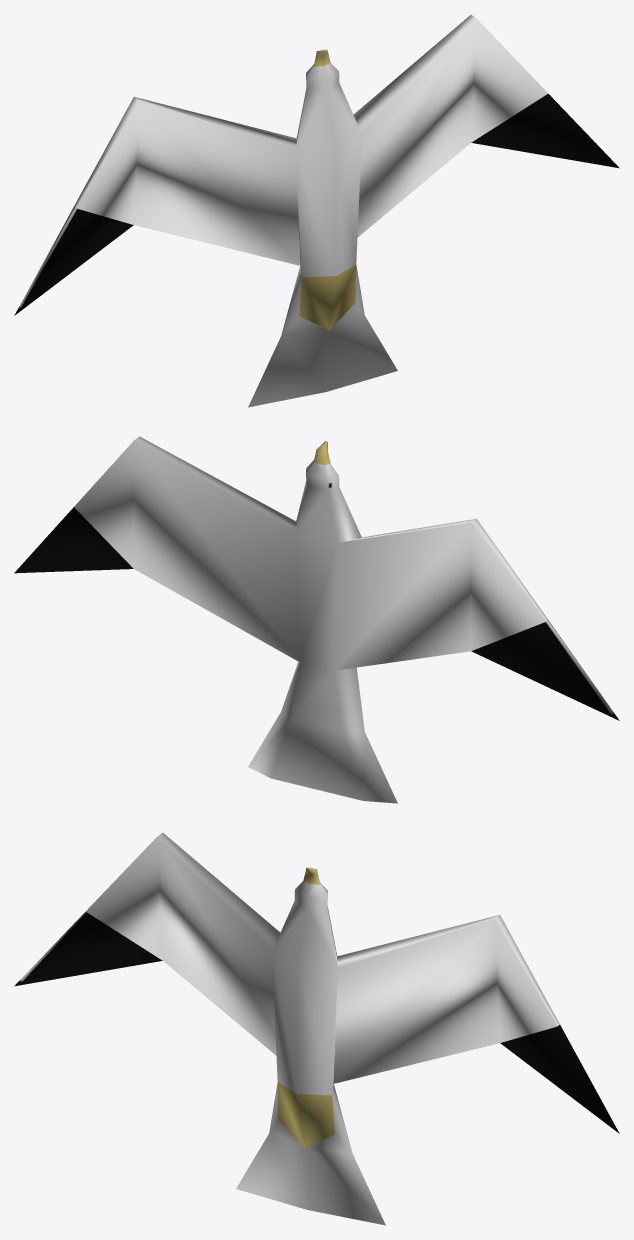
Rendered from seagul_lod0.fbx.
3 views of the same model, one above another, from view 1: azimuth 30°, elevation 25°; view 2: azimuth 150°, elevation 25°; view 3: azimuth 330°, elevation 25° (orthographic).
Parts seen in each view (by area): view 1: bird_no_armature; view 2: bird_no_armature; view 3: bird_no_armature.
Boxes of the visible parts, bbox=[...] form: bird_no_armature: bbox=[14, 14, 619, 407]; bird_no_armature: bbox=[14, 436, 619, 803]; bird_no_armature: bbox=[14, 832, 619, 1225].
Size of the model in its own units: 5503 by 2966 by 535.
Materials: 1 (1 with a texture image).
